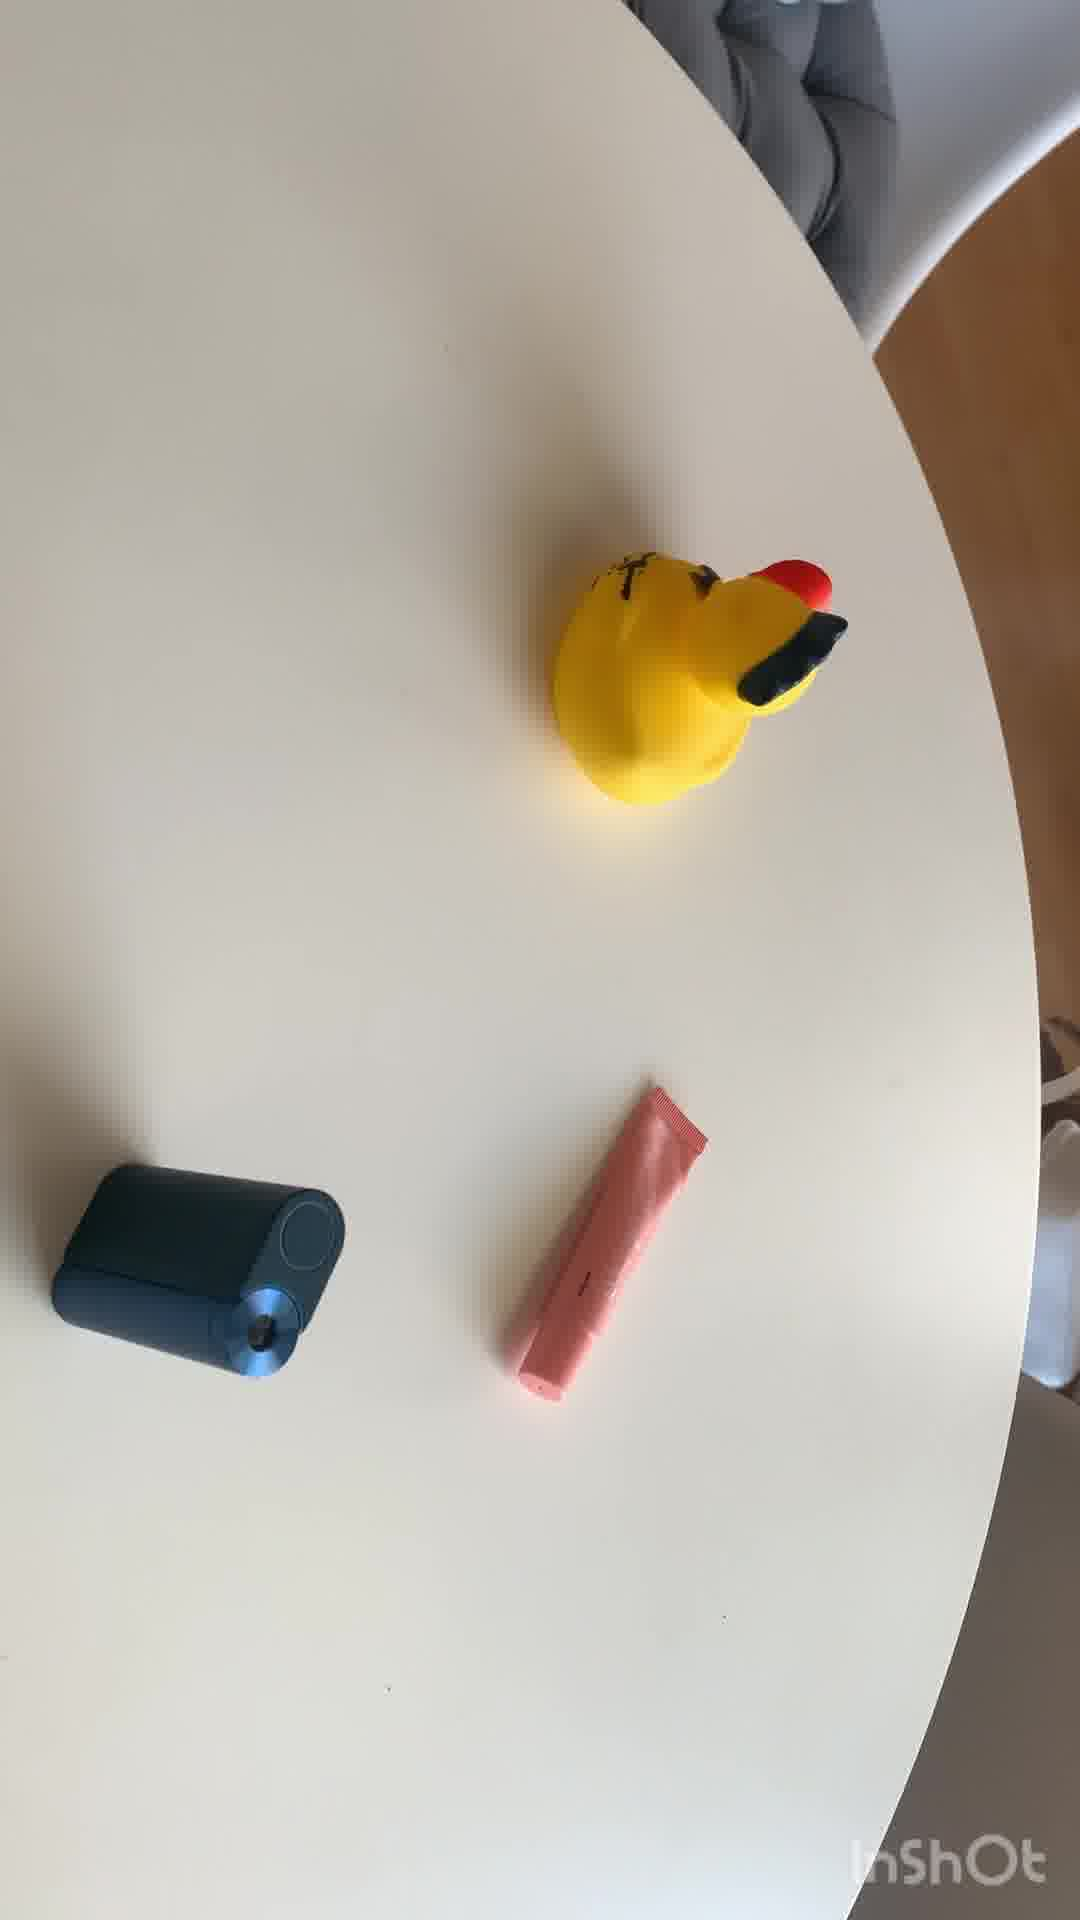duck: (535, 545, 844, 814)
glo: (44, 1154, 345, 1382)
lip balm: (518, 1085, 713, 1400)
